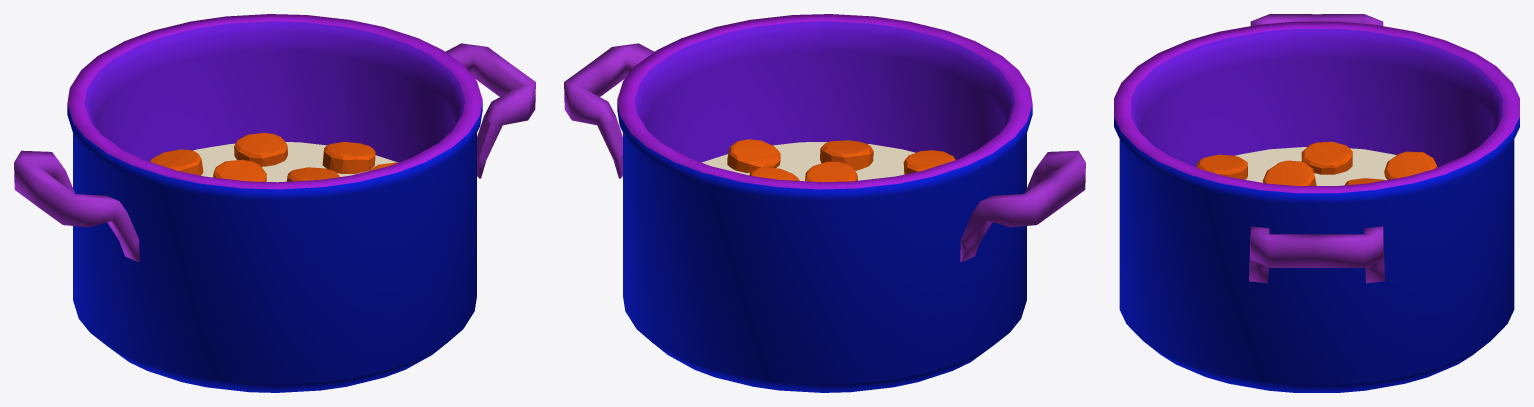
Rendered from bamihap_pot_cooked_model.fbx.
3 renders of one model, left to right at view 1: azimuth 30°, elevation 25°; view 2: azimuth 150°, elevation 25°; view 3: azimuth 270°, elevation 25°, orthographic.
Parts seen in each view (by area): view 1: BamihapPotCookedPot, BamihapPotCookedOil, BamihapPotCookedModel_02, BamihapPotCookedModel_04, BamihapPotCookedModel_05, BamihapPotCookedModel_06, BamihapPotCookedModel_01; view 2: BamihapPotCookedPot, BamihapPotCookedOil, BamihapPotCookedModel_06, BamihapPotCookedModel_05, BamihapPotCookedModel_04, BamihapPotCookedModel_01; view 3: BamihapPotCookedPot, BamihapPotCookedOil, BamihapPotCookedModel_04, BamihapPotCookedModel_03, BamihapPotCookedModel_02, BamihapPotCookedModel_05.
Part boxes in pixels (left/top/right/bottom): BamihapPotCookedPot: left=14, top=14, right=535, bottom=392; BamihapPotCookedOil: left=193, top=142, right=397, bottom=182; BamihapPotCookedModel_02: left=234, top=132, right=397, bottom=170; BamihapPotCookedModel_04: left=322, top=142, right=375, bottom=173; BamihapPotCookedModel_05: left=213, top=159, right=266, bottom=181; BamihapPotCookedModel_06: left=150, top=149, right=203, bottom=175; BamihapPotCookedModel_01: left=287, top=167, right=339, bottom=181; BamihapPotCookedPot: left=564, top=14, right=1085, bottom=392; BamihapPotCookedOil: left=702, top=142, right=915, bottom=181; BamihapPotCookedModel_06: left=749, top=140, right=873, bottom=180; BamihapPotCookedModel_05: left=727, top=139, right=780, bottom=172; BamihapPotCookedModel_04: left=805, top=161, right=857, bottom=182; BamihapPotCookedModel_01: left=903, top=150, right=955, bottom=174; BamihapPotCookedPot: left=1114, top=14, right=1519, bottom=392; BamihapPotCookedOil: left=1196, top=147, right=1437, bottom=185; BamihapPotCookedModel_04: left=1301, top=141, right=1352, bottom=174; BamihapPotCookedModel_03: left=1262, top=160, right=1316, bottom=185; BamihapPotCookedModel_02: left=1384, top=151, right=1436, bottom=179; BamihapPotCookedModel_05: left=1197, top=154, right=1247, bottom=179.
Size of the model in its own units: 62.94 by 83.38 by 35.99.
